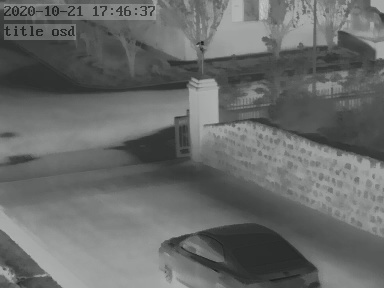vehicle: (159, 221, 328, 288)
